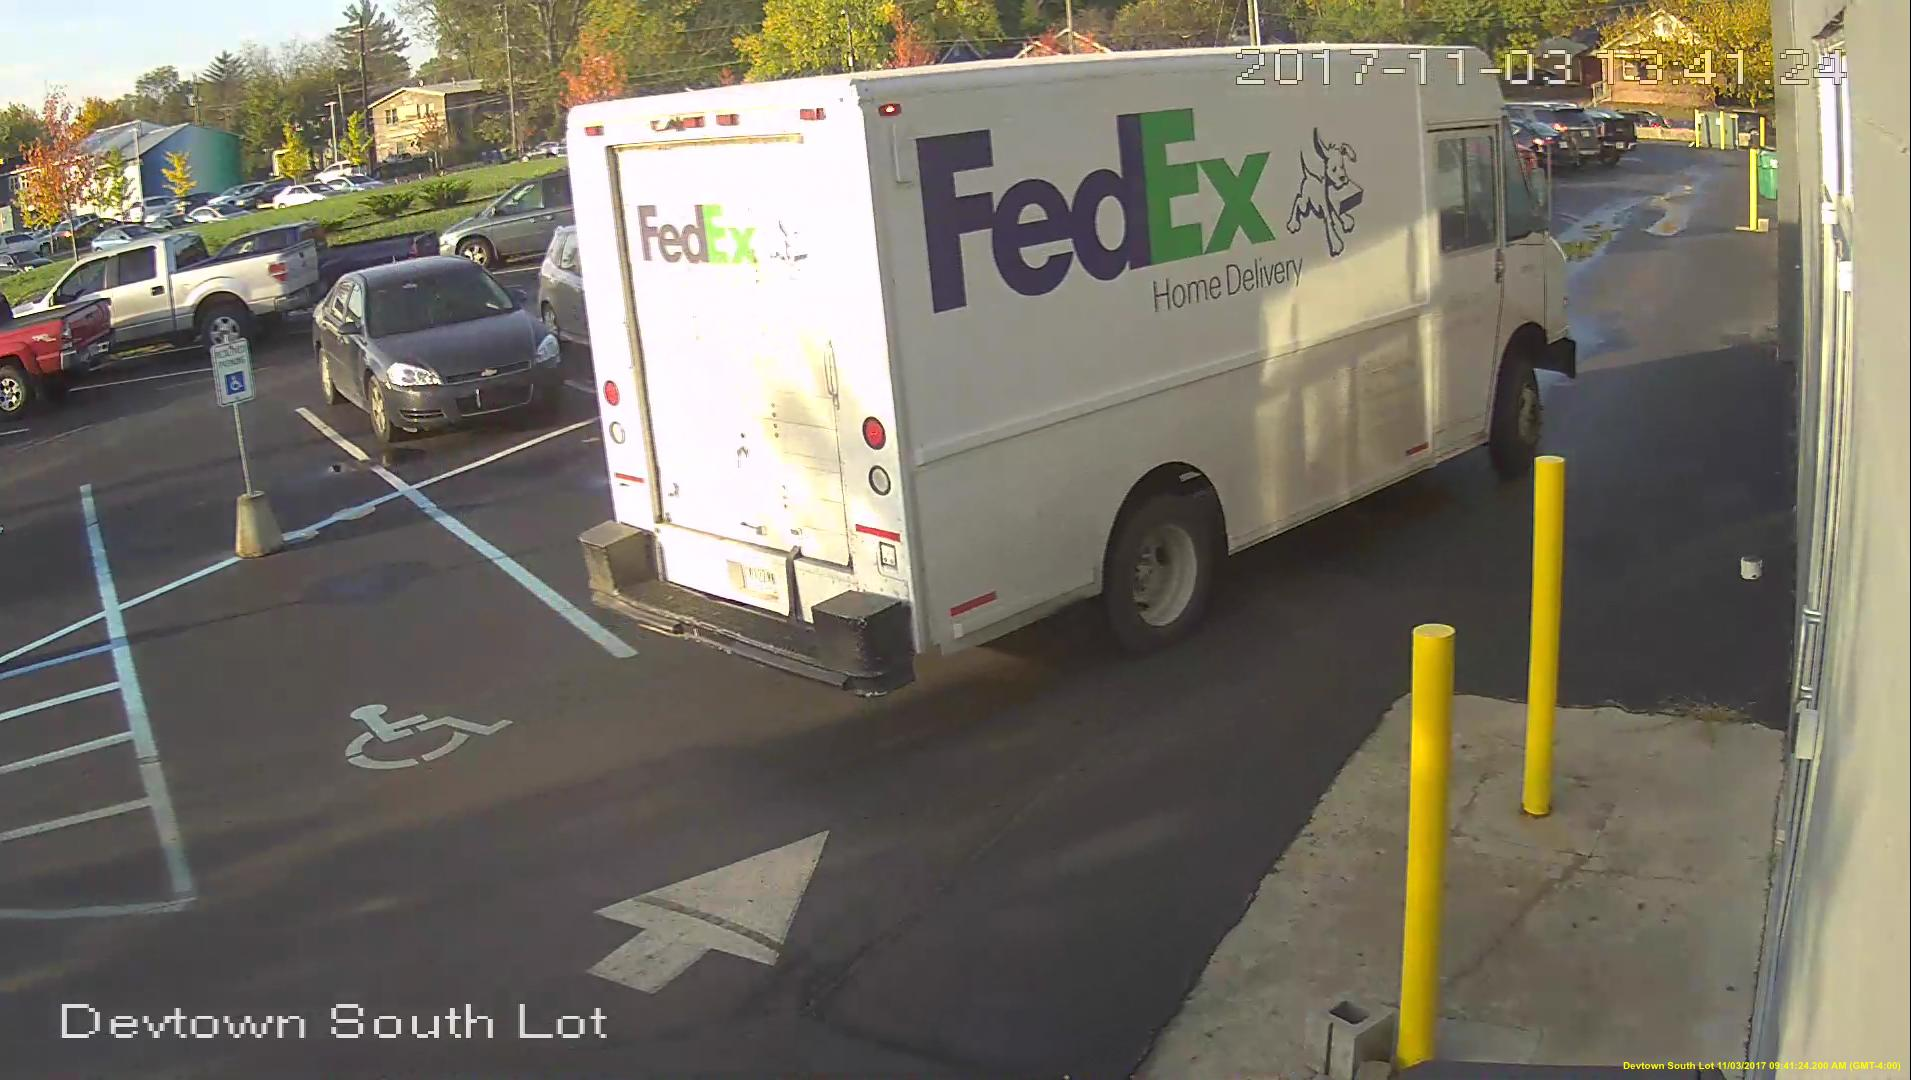fedex_truck: (583, 47, 1574, 694)
